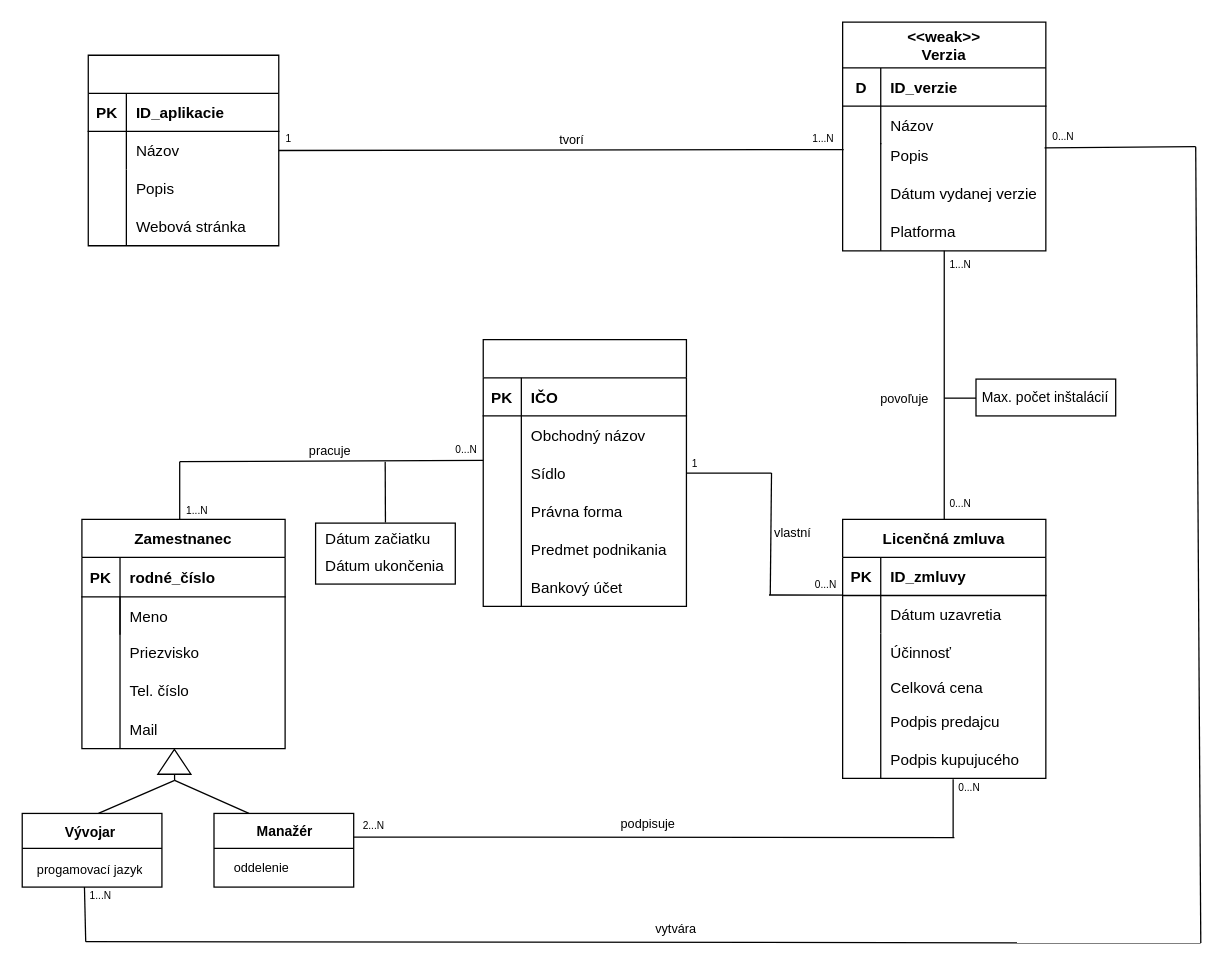
Image size: 1224x970. Some labels were removed from this diagram. Here are the shapes that lost their labels. From the top down, the box of each, then its label:
(87, 54, 279, 246): Softvérová aplikácia
(482, 338, 686, 606): Organizácia
